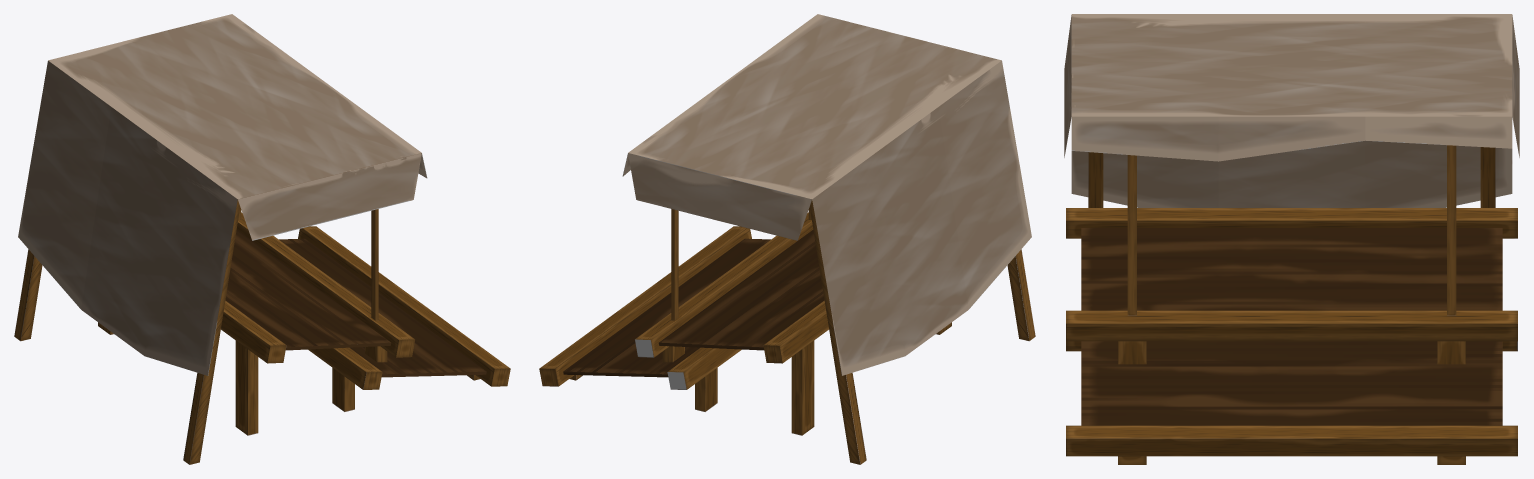
The model's file is Toldo.fbx.
The picture shows the model from 3 angles, left to right: view 1: azimuth 30°, elevation 25°; view 2: azimuth 150°, elevation 25°; view 3: azimuth 270°, elevation 25°; orthographic projection. The views are drawn at different scales.
Parts seen in each view (by area): view 1: Tenda_low, Base_low, Madeira_low, Suporte_low; view 2: Tenda_low, Base_low, Madeira_low, Suporte_low; view 3: Tenda_low, Base_low, Madeira_low, Suporte_low.
Boxes of the visible parts, bbox=[...] form: Tenda_low: bbox=[18, 14, 427, 375]; Base_low: bbox=[225, 230, 486, 377]; Madeira_low: bbox=[221, 212, 510, 389]; Suporte_low: bbox=[14, 200, 480, 464]; Tenda_low: bbox=[622, 14, 1031, 375]; Base_low: bbox=[563, 230, 824, 377]; Madeira_low: bbox=[539, 212, 828, 389]; Suporte_low: bbox=[569, 200, 1035, 464]; Tenda_low: bbox=[1064, 14, 1519, 207]; Base_low: bbox=[1081, 228, 1502, 425]; Madeira_low: bbox=[1066, 208, 1517, 456]; Suporte_low: bbox=[1088, 145, 1495, 464].
Size of the model in its own units: 845 by 680 by 921.
